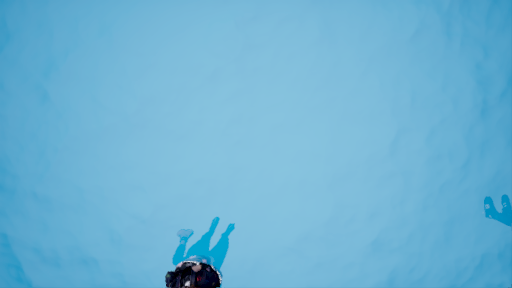person: (167, 213, 234, 288)
